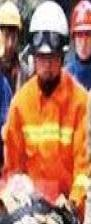boots: (1, 1, 1, 1)
gloves: (1, 1, 1, 1)
hard-hat: (0, 0, 46, 69)
ppe-suit: (0, 0, 1, 1)
